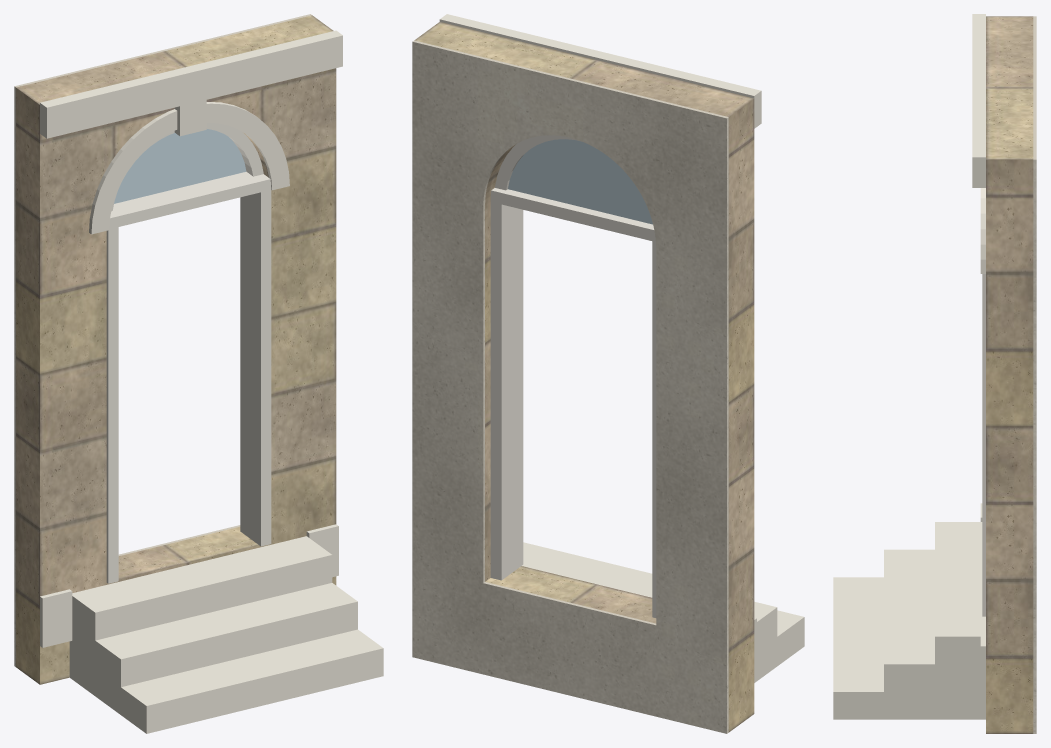
The model's file is wall_ground_arch_door.glb.
3 views of the same model, side by side, from view 1: azimuth 30°, elevation 25°; view 2: azimuth 150°, elevation 25°; view 3: azimuth 270°, elevation 25° (orthographic). The views are drawn at different scales.
Visible parts, largest first — view 1: wall_ground_arch_door_rustic, wall_ground_arch_door_trim, wall_ground_arch_door_frame, wall_ground_arch_door_glass, wall_ground_arch_door_plaster; view 2: wall_ground_arch_door_plaster, wall_ground_arch_door_rustic, wall_ground_arch_door_frame, wall_ground_arch_door_trim, wall_ground_arch_door_glass; view 3: wall_ground_arch_door_rustic, wall_ground_arch_door_trim, wall_ground_arch_door_plaster, wall_ground_arch_door_frame.
Part boxes in pixels (left/top/right/bottom): wall_ground_arch_door_rustic: left=16, top=15, right=336, bottom=684; wall_ground_arch_door_trim: left=40, top=30, right=383, bottom=733; wall_ground_arch_door_frame: left=106, top=122, right=271, bottom=583; wall_ground_arch_door_glass: left=114, top=129, right=246, bottom=203; wall_ground_arch_door_plaster: left=14, top=14, right=311, bottom=666; wall_ground_arch_door_plaster: left=412, top=40, right=728, bottom=733; wall_ground_arch_door_rustic: left=414, top=22, right=754, bottom=732; wall_ground_arch_door_frame: left=490, top=135, right=656, bottom=617; wall_ground_arch_door_trim: left=439, top=14, right=804, bottom=682; wall_ground_arch_door_glass: left=508, top=139, right=652, bottom=224; wall_ground_arch_door_rustic: left=986, top=16, right=1033, bottom=733; wall_ground_arch_door_trim: left=833, top=14, right=985, bottom=719; wall_ground_arch_door_plaster: left=1033, top=16, right=1036, bottom=733; wall_ground_arch_door_frame: left=982, top=274, right=985, bottom=616.
Bounding box in the file's own units: 2 × 3.76 × 1.2.
5 materials, 2 textured.
